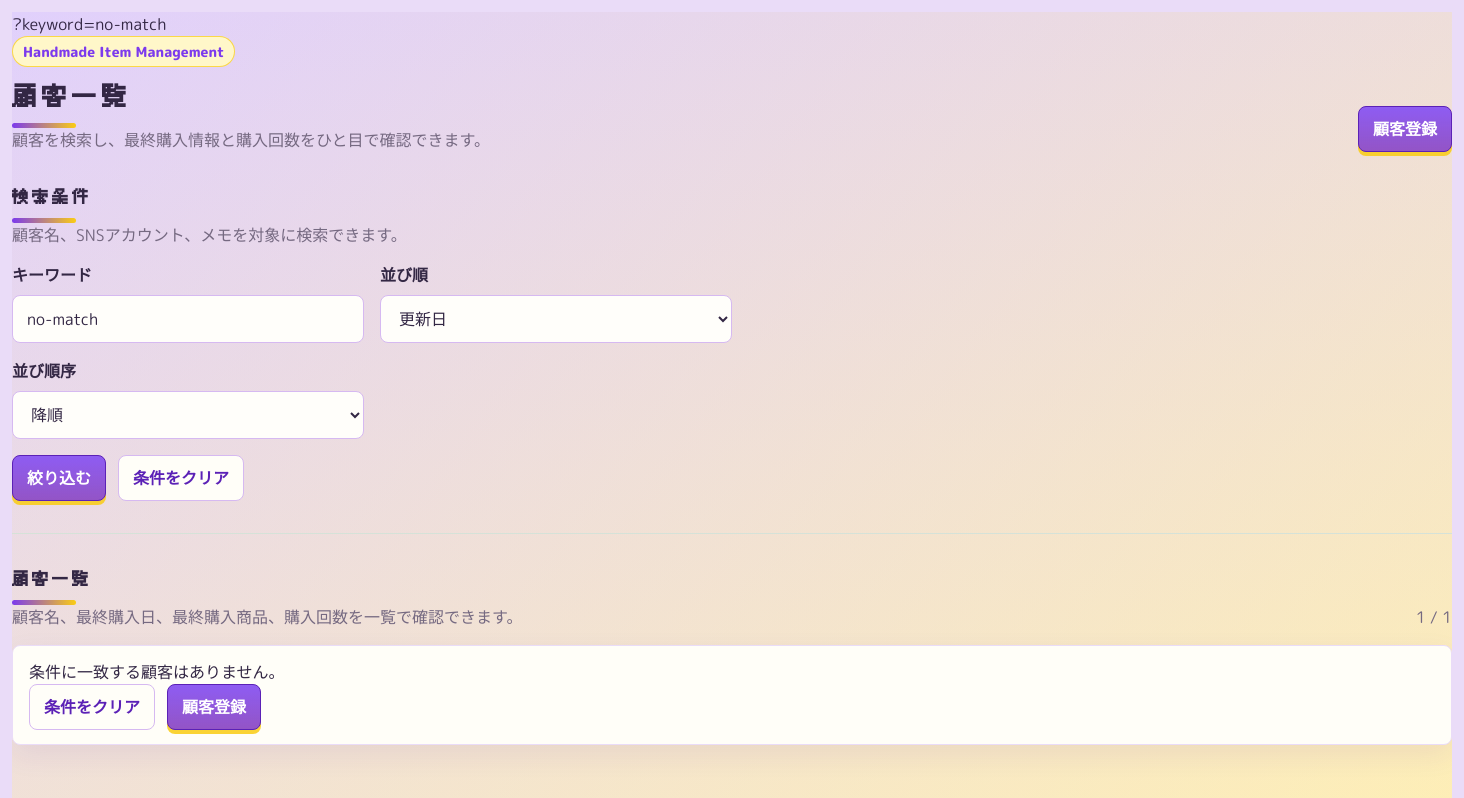
Test: CustomerListPage › shows an empty state and clears filters back to the default view
Expected: the text "条件に一致する顧客はありません。" is shown, top-left (29, 661), bottom-right (284, 683)
Click the button "条件をクリア" below "条件に一致する顧客はありません。": point(92, 707) top-left (29, 684), bottom-right (155, 730)
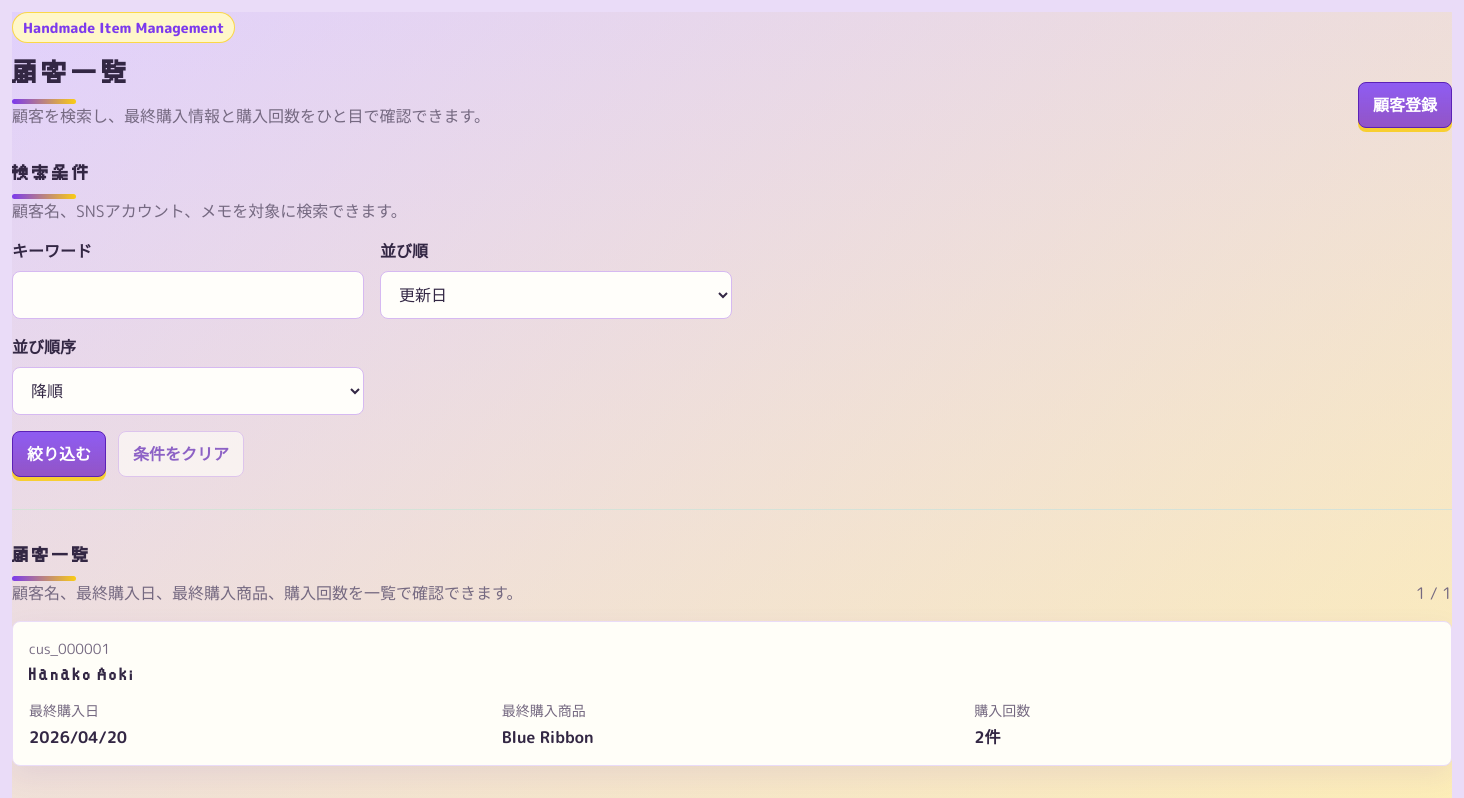
Expected: the list item is shown, top-left (12, 621), bottom-right (1452, 766)
